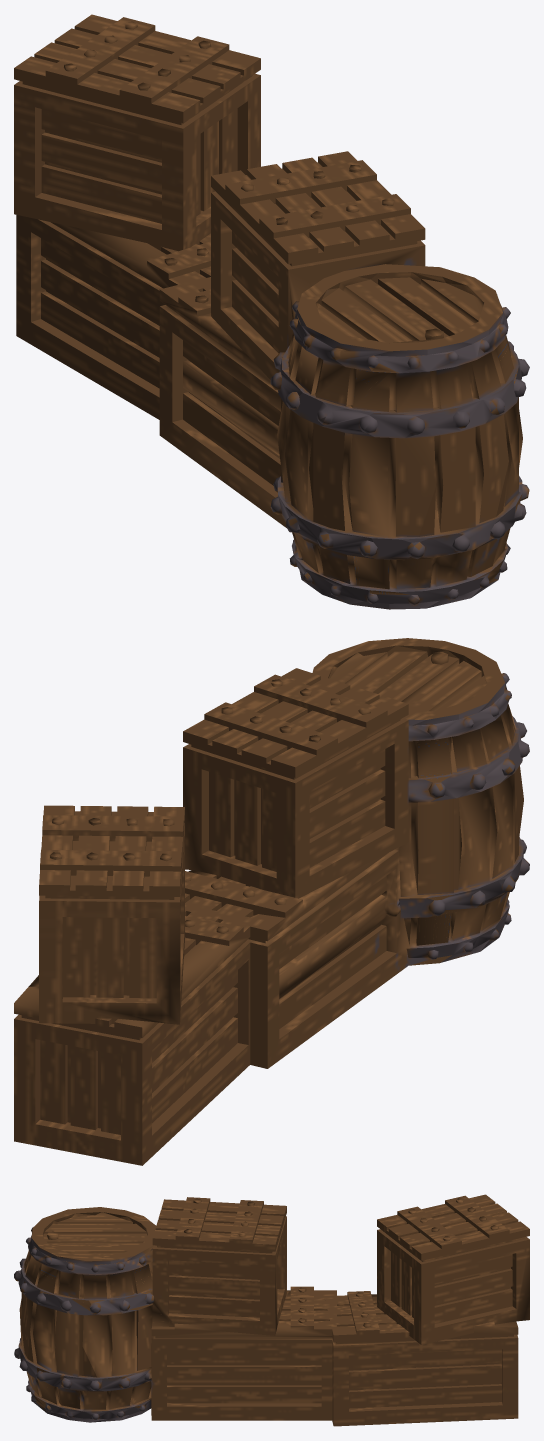
The model's file is crates.fbx.
3 renders of one model, top to bottom at view 1: azimuth 30°, elevation 25°; view 2: azimuth 150°, elevation 25°; view 3: azimuth 270°, elevation 25°, orthographic. The views are drawn at different scales.
Parts seen in each view (by area): view 1: OpenDungeonTiles_barricade_3; view 2: OpenDungeonTiles_barricade_3; view 3: OpenDungeonTiles_barricade_3.
Boxes of the visible parts, bbox=[...] form: OpenDungeonTiles_barricade_3: bbox=[14, 14, 529, 609]; OpenDungeonTiles_barricade_3: bbox=[14, 638, 529, 1165]; OpenDungeonTiles_barricade_3: bbox=[14, 1194, 529, 1426].
Size of the model in its own units: 2451 by 2937 by 7466.
Materials: 1 (1 with a texture image).
